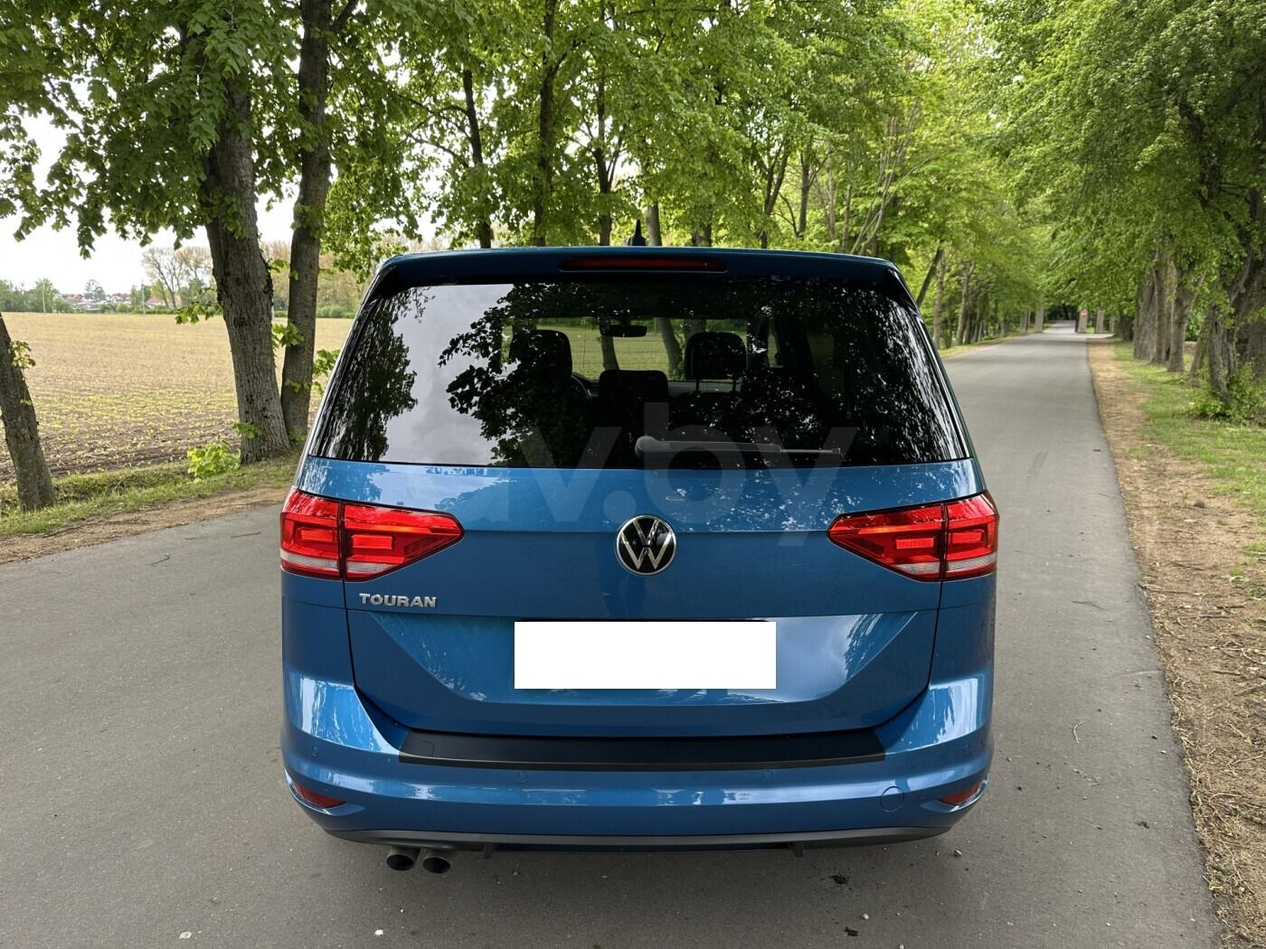Touran_2015: (271, 236, 999, 884)
